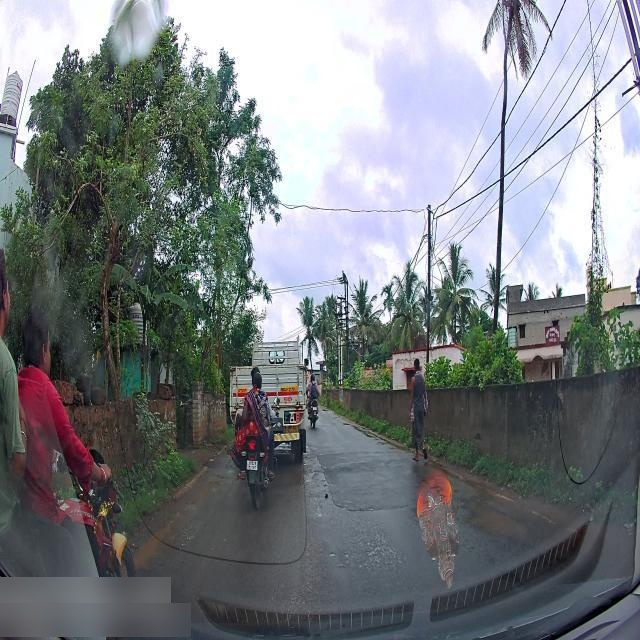pothole: (474, 497, 520, 538)
